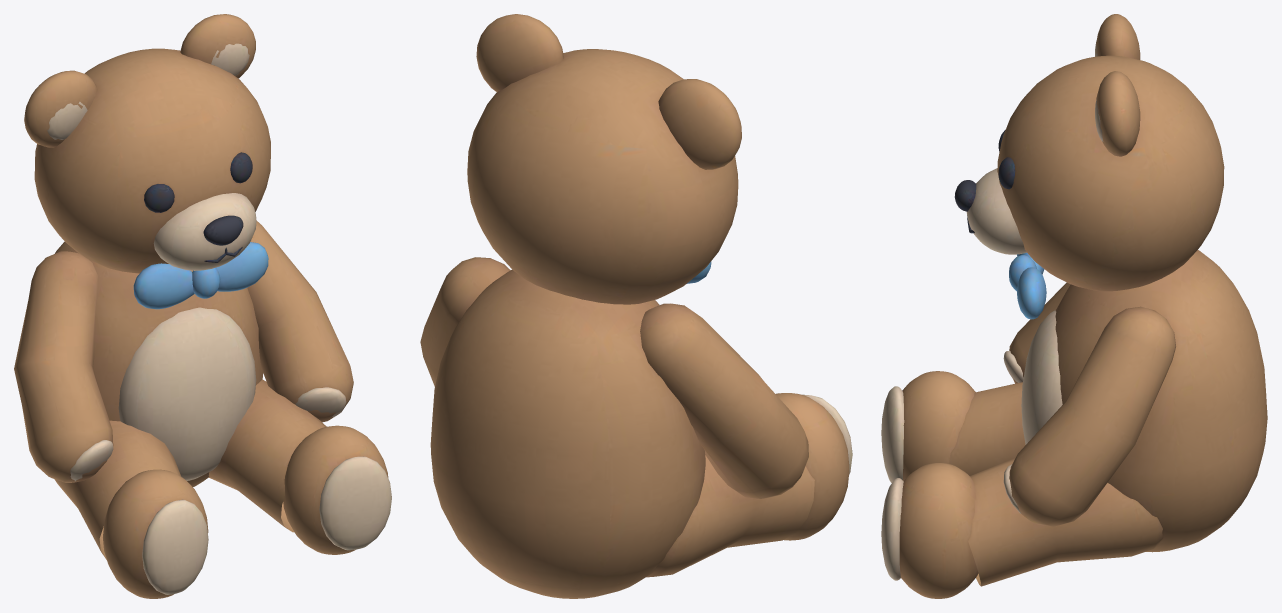
Rendered from oso_peluche.glb.
The picture shows the model from 3 angles, left to right: view 1: azimuth 30°, elevation 25°; view 2: azimuth 150°, elevation 25°; view 3: azimuth 270°, elevation 25°; orthographic projection. The views are drawn at different scales.
Visible parts, largest first — view 1: teddy-bear_body; view 2: teddy-bear_body; view 3: teddy-bear_body.
Part boxes in pixels (<box>): teddy-bear_body: <box>14,14,391,598</box>; teddy-bear_body: <box>420,14,852,598</box>; teddy-bear_body: <box>881,14,1267,598</box>.
Bounding box in the file's own units: 0.2195 × 0.3217 × 0.2242.
Materials: 1 (1 with a texture image).
